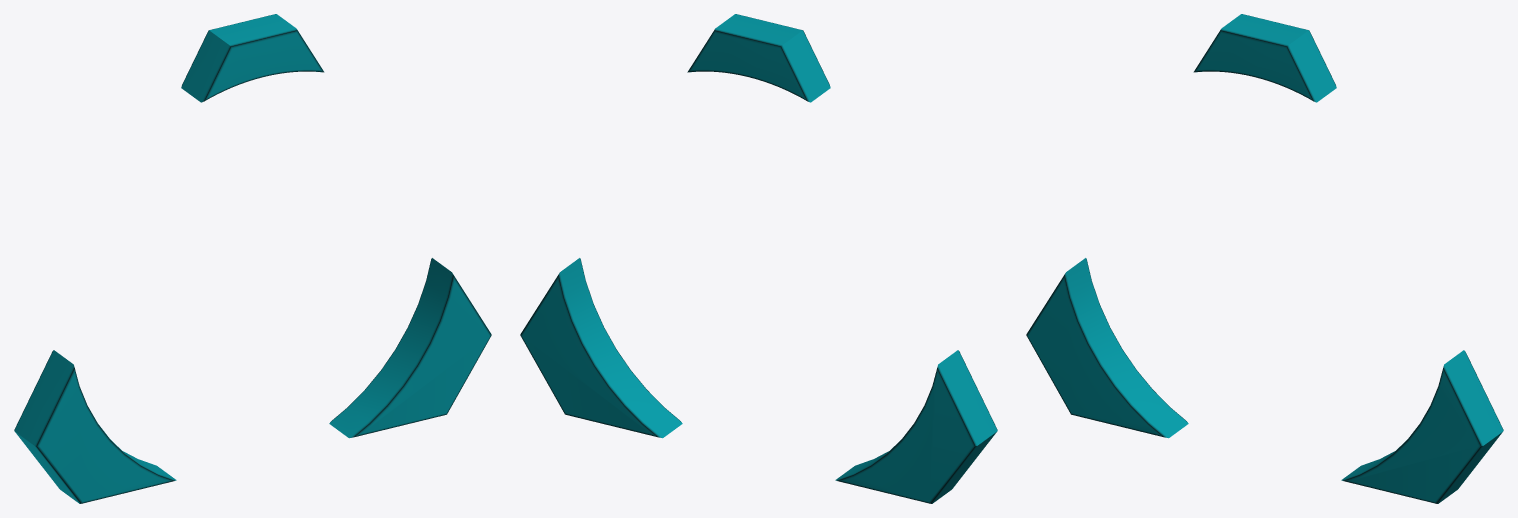
The model's file is Triangulo.fbx.
3 views of the same model, side by side, from view 1: azimuth 30°, elevation 25°; view 2: azimuth 150°, elevation 25°; view 3: azimuth 330°, elevation 25° (orthographic).
Parts seen in each view (by area): view 1: polySurface127, polySurface126, polySurface125; view 2: polySurface127, polySurface126, polySurface125; view 3: polySurface126, polySurface127, polySurface125.
Boxes of the visible parts, <box> form: polySurface127: <box>329,258,491,438</box>; polySurface126: <box>14,350,176,503</box>; polySurface125: <box>181,14,324,102</box>; polySurface127: <box>520,258,682,438</box>; polySurface126: <box>835,350,997,503</box>; polySurface125: <box>687,14,830,102</box>; polySurface126: <box>1026,258,1188,438</box>; polySurface127: <box>1341,350,1503,503</box>; polySurface125: <box>1193,14,1336,102</box>.
Size of the model in its own units: 11.32 by 10 by 1.
